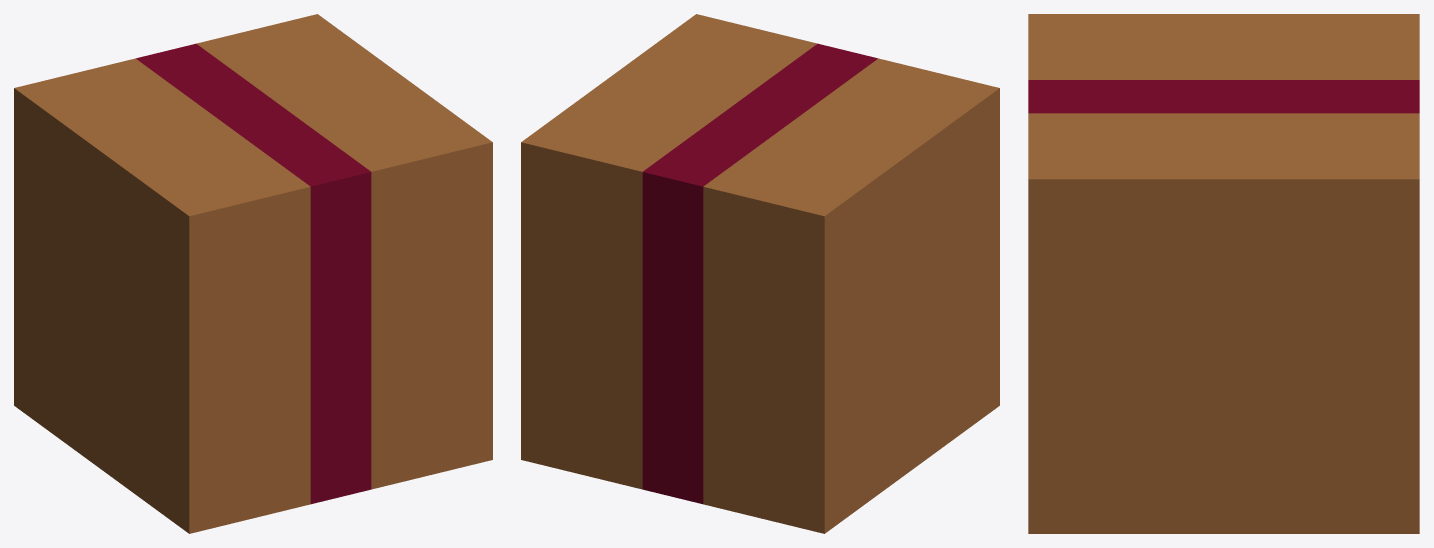
3 views of the same model, side by side, from view 1: azimuth 30°, elevation 25°; view 2: azimuth 150°, elevation 25°; view 3: azimuth 270°, elevation 25° (orthographic). The views are drawn at different scales.
Parts seen in each view (by area): view 1: OB_box; view 2: OB_box; view 3: OB_box.
Part boxes in pixels (left/top/right/bottom): OB_box: left=14, top=14, right=492, bottom=533; OB_box: left=521, top=14, right=999, bottom=533; OB_box: left=1028, top=14, right=1419, bottom=533.
Bounding box in the file's own units: 56.33 × 56.33 × 56.33.
